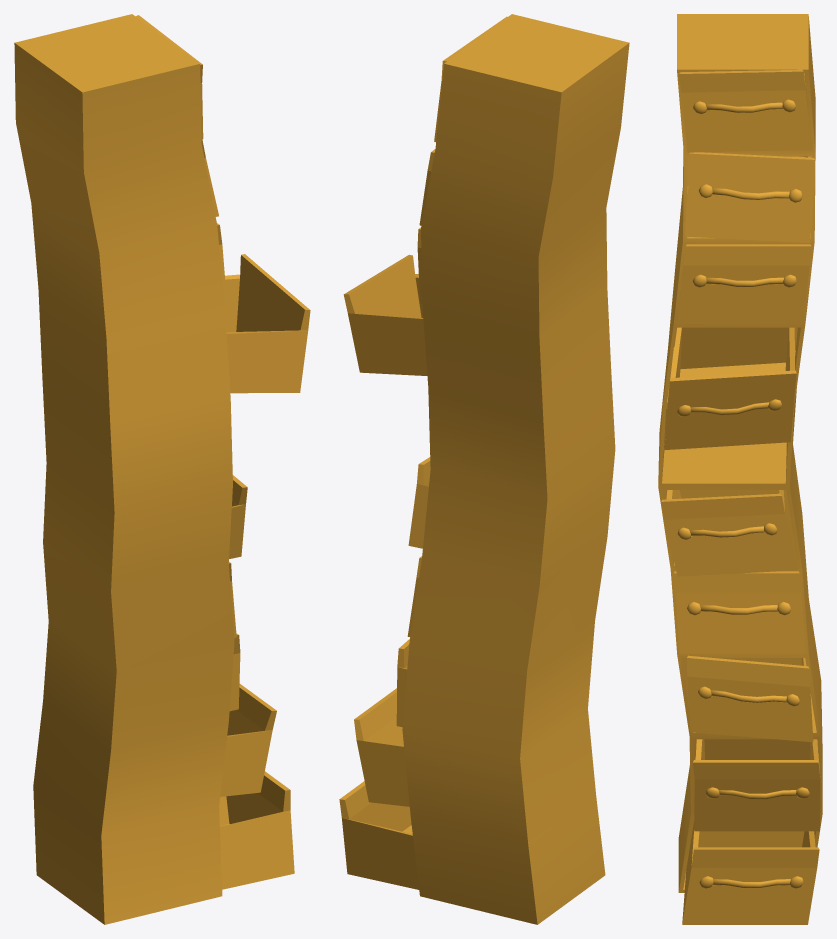
Rendered from mueble 4.fbx.
The picture shows the model from 3 angles, left to right: view 1: azimuth 30°, elevation 25°; view 2: azimuth 150°, elevation 25°; view 3: azimuth 270°, elevation 25°; orthographic projection. The views are drawn at different scales.
Visible parts, largest first — view 1: Cube, Cube.003, Cube.009, Cube.008, Cube.005; view 2: Cube, Cube.003, Cube.009, Cube.008, Cube.005, Cube.007; view 3: Cube, Cube.003, Cube.009, Cube.008, Cube.001, Cube.005, Cube.006, Cube.011, Cube.002, Cube.007.
Part boxes in pixels (x1=…): Cube: x1=14, y1=14, x2=234, y2=924; Cube.003: x1=224, y1=254, x2=310, y2=393; Cube.009: x1=219, y1=771, x2=294, y2=889; Cube.008: x1=220, y1=684, x2=276, y2=796; Cube.005: x1=229, y1=475, x2=247, y2=558; Cube: x1=402, y1=14, x2=629, y2=924; Cube.003: x1=343, y1=254, x2=427, y2=375; Cube.009: x1=339, y1=781, x2=419, y2=889; Cube.008: x1=354, y1=688, x2=409, y2=806; Cube.005: x1=408, y1=457, x2=430, y2=548; Cube.007: x1=396, y1=639, x2=409, y2=727; Cube: x1=658, y1=14, x2=822, y2=892; Cube.003: x1=664, y1=327, x2=796, y2=450; Cube.009: x1=682, y1=821, x2=819, y2=924; Cube.008: x1=693, y1=739, x2=820, y2=831; Cube.001: x1=685, y1=152, x2=815, y2=242; Cube.005: x1=661, y1=490, x2=797, y2=576; Cube.006: x1=674, y1=571, x2=805, y2=653; Cube.011: x1=679, y1=69, x2=811, y2=152; Cube.002: x1=677, y1=244, x2=811, y2=323; Cube.007: x1=687, y1=655, x2=813, y2=742.
Size of the model in its own units: 5.12 by 18 by 3.3.
